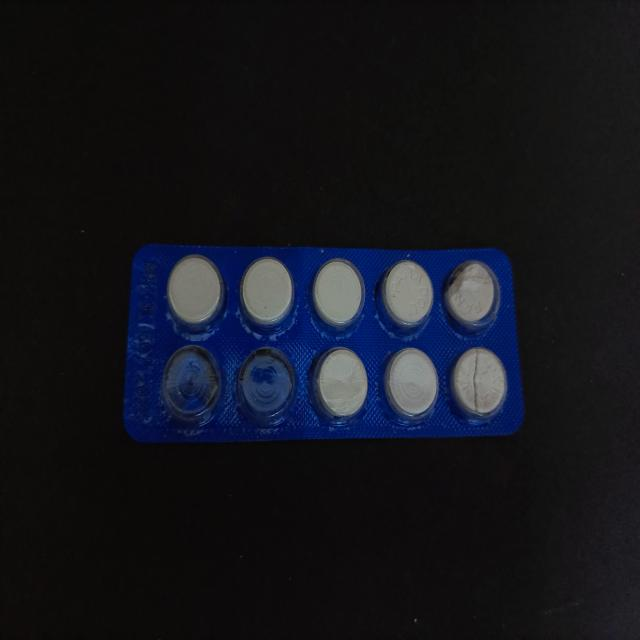defect: (232, 344, 302, 430), (157, 342, 226, 429), (439, 254, 504, 340), (447, 344, 509, 423)
